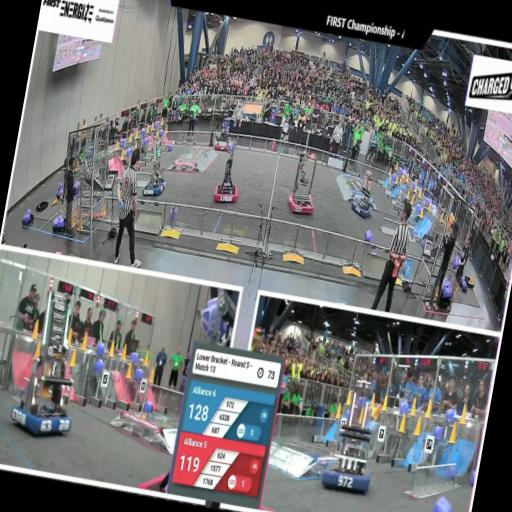robot: (6, 286, 94, 445), (320, 373, 388, 497), (284, 151, 326, 220), (212, 142, 248, 206), (349, 166, 380, 222), (140, 150, 172, 200), (210, 127, 234, 154)
